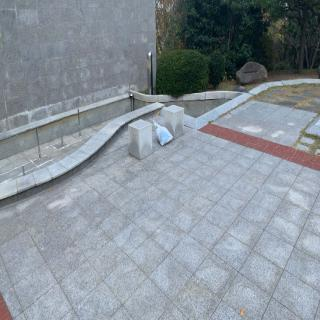Garbage: (154, 120, 175, 147)
